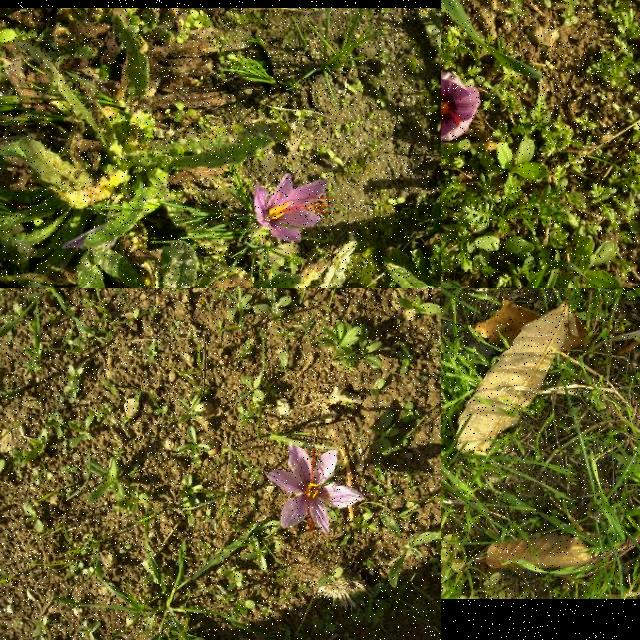flower: (265, 444, 367, 536), (253, 174, 335, 243), (441, 72, 481, 156)
